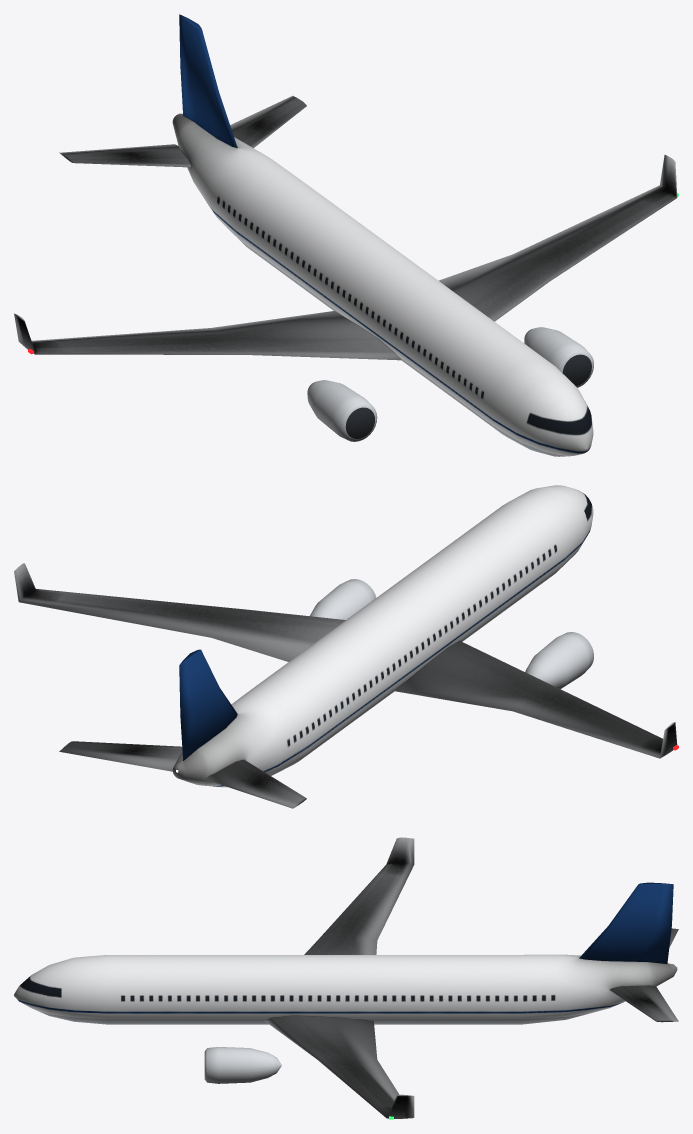
The picture shows the model from 3 angles, top to bottom: view 1: azimuth 30°, elevation 25°; view 2: azimuth 150°, elevation 25°; view 3: azimuth 270°, elevation 25°; orthographic projection. The views are drawn at different scales.
Visible parts, largest first — view 1: fuselage, wings; view 2: fuselage, wings; view 3: fuselage, wings.
Boxes of the visible parts, x1=… form: fuselage: x1=172, y1=113, x2=593, y2=456; wings: x1=14, y1=14, x2=677, y2=441; fuselage: x1=172, y1=485, x2=593, y2=787; wings: x1=14, y1=563, x2=677, y2=808; fuselage: x1=14, y1=954, x2=677, y2=1024; wings: x1=204, y1=837, x2=678, y2=1118.
Size of the model in its own units: 34.5 by 9.7 by 37.7.
Materials: 8 (5 with a texture image).
